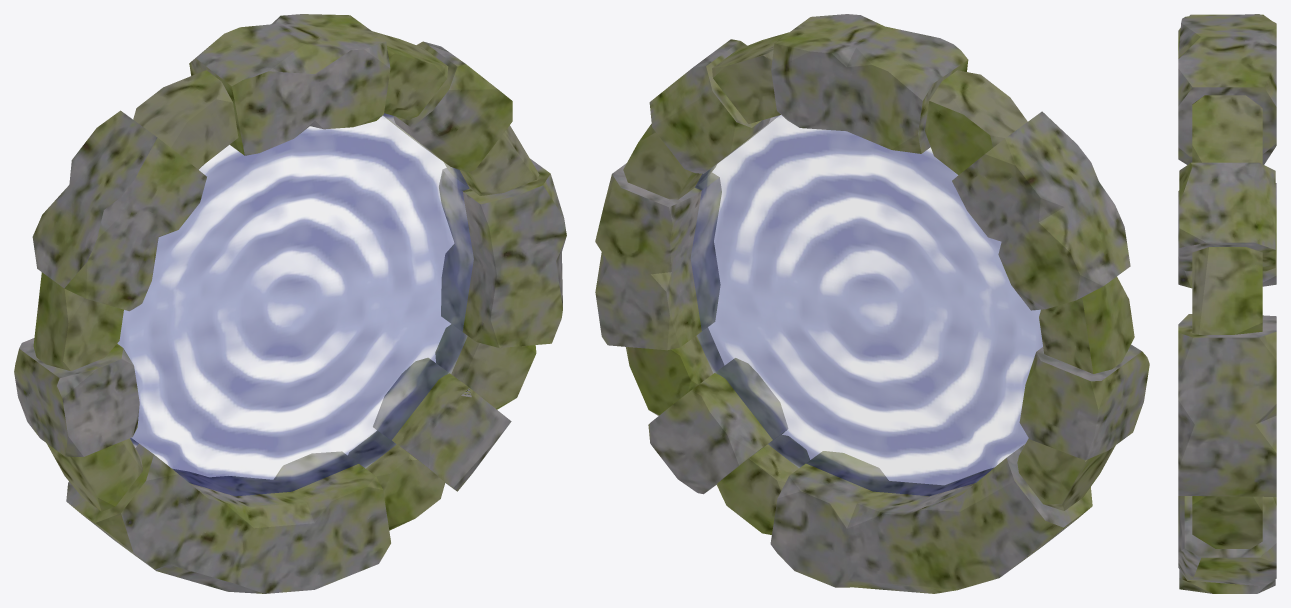
Rendered from portal.glb.
3 renders of one model, left to right at view 1: azimuth 30°, elevation 25°; view 2: azimuth 150°, elevation 25°; view 3: azimuth 270°, elevation 25°, orthographic.
Parts seen in each view (by area): view 1: BrickLarge_low_MagicStone_0, PortalSurface_low_PortalSurface_0, BrickSmall_low_MagicStoneMoss_0; view 2: BrickLarge_low_MagicStone_0, PortalSurface_low_PortalSurface_0, BrickSmall_low_MagicStoneMoss_0; view 3: BrickLarge_low_MagicStone_0, BrickSmall_low_MagicStoneMoss_0.
Part boxes in pixels (left/top/right/bottom): BrickLarge_low_MagicStone_0: left=14, top=14, right=566, bottom=593; PortalSurface_low_PortalSurface_0: left=117, top=113, right=473, bottom=496; BrickSmall_low_MagicStoneMoss_0: left=33, top=31, right=539, bottom=530; BrickLarge_low_MagicStone_0: left=595, top=14, right=1149, bottom=593; PortalSurface_low_PortalSurface_0: left=690, top=115, right=1042, bottom=496; BrickSmall_low_MagicStoneMoss_0: left=623, top=32, right=1134, bottom=534; BrickLarge_low_MagicStone_0: left=1178, top=14, right=1276, bottom=593; BrickSmall_low_MagicStoneMoss_0: left=1192, top=95, right=1262, bottom=548.
Size of the model in its own units: 2.66 by 2.68 by 0.4499.
3 materials, 3 textured.
